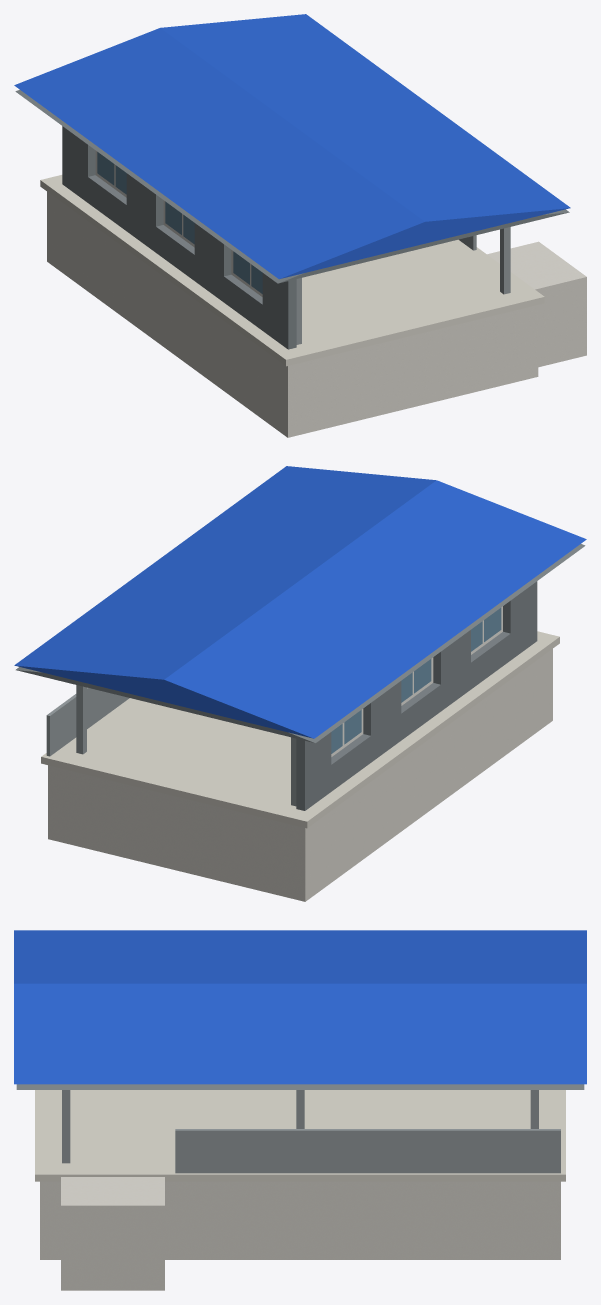
The picture shows the model from 3 angles, top to bottom: view 1: azimuth 30°, elevation 25°; view 2: azimuth 150°, elevation 25°; view 3: azimuth 270°, elevation 25°; orthographic projection. The views are drawn at different scales.
Parts seen in each view (by area): view 1: stand__blueroof, stand__white, stand__cap, stand__metal, stand__sideglass, stand__steel, stand__frame; view 2: stand__blueroof, stand__white, stand__cap, stand__metal, stand__steel, stand__sideglass, stand__frame; view 3: stand__blueroof, stand__white, stand__cap, stand__steel, stand__metal.
Part boxes in pixels (x1,y1,x2,y2): stand__blueroof: (14,14,570,279); stand__white: (47,192,586,437); stand__cap: (40,175,544,366); stand__metal: (15,89,569,349); stand__sideglass: (97,152,262,293); stand__steel: (296,227,510,344); stand__frame: (95,150,262,296); stand__blueroof: (14,466,586,738); stand__white: (48,649,552,901); stand__cap: (41,631,559,828); stand__metal: (16,544,585,810); stand__steel: (46,685,296,806); stand__sideglass: (331,608,501,753); stand__frame: (331,606,502,756); stand__blueroof: (14,930,586,1084); stand__white: (40,1177,560,1290); stand__cap: (35,1090,565,1181); stand__steel: (62,1090,560,1173); stand__metal: (16,1084,584,1089).
Bounding box in the file's own units: 7.9 × 4.45 × 11.
7 materials, 1 textured.
